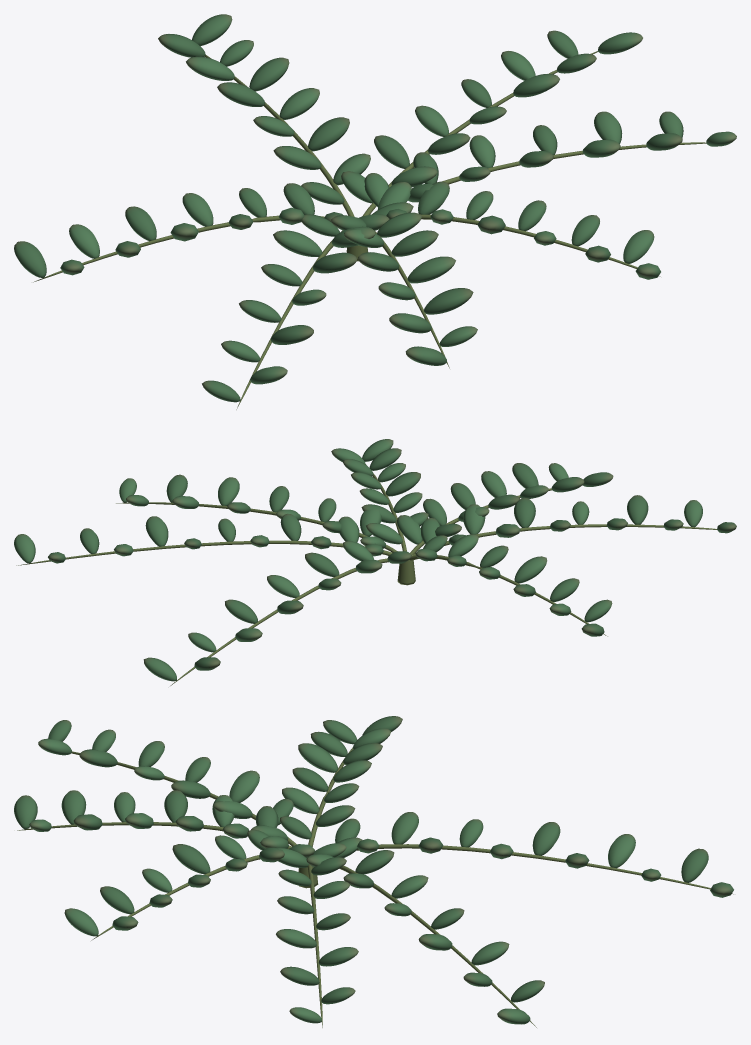
File: succulentc.glb
3 views of the same model, one above another, from view 1: azimuth 30°, elevation 25°; view 2: azimuth 150°, elevation 25°; view 3: azimuth 270°, elevation 25° (orthographic). The views are drawn at different scales.
Parts seen in each view (by area): view 1: SucculentLeaves, SucculentStems; view 2: SucculentLeaves, SucculentStems; view 3: SucculentLeaves, SucculentStems.
Boxes of the visible parts, x1,y1,x2,y2 form: SucculentLeaves: (14,14,736,402); SucculentStems: (33,51,706,409); SucculentLeaves: (14,439,736,681); SucculentStems: (16,464,716,685); SucculentLeaves: (14,716,733,1024); SucculentStems: (17,747,733,1027).
Bounding box in the file's own units: 2.52 × 0.2599 × 2.56.
